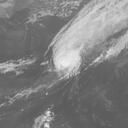cyclone: (51, 42, 84, 78)
